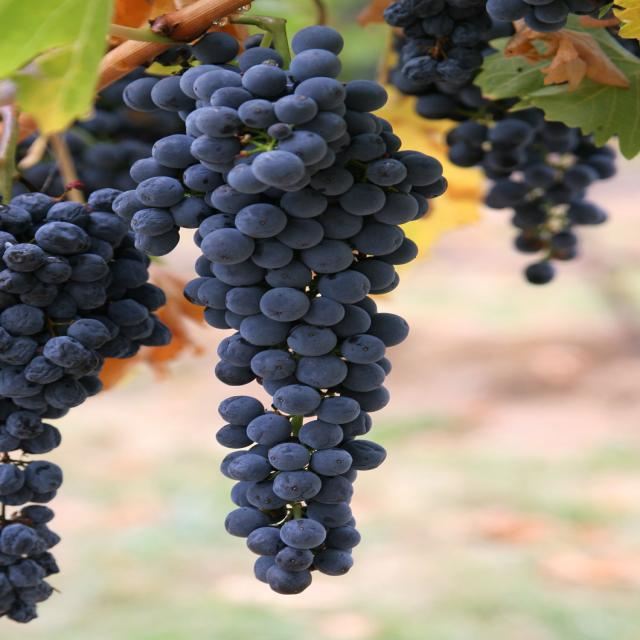grape: (111, 15, 452, 600), (386, 0, 618, 299)
